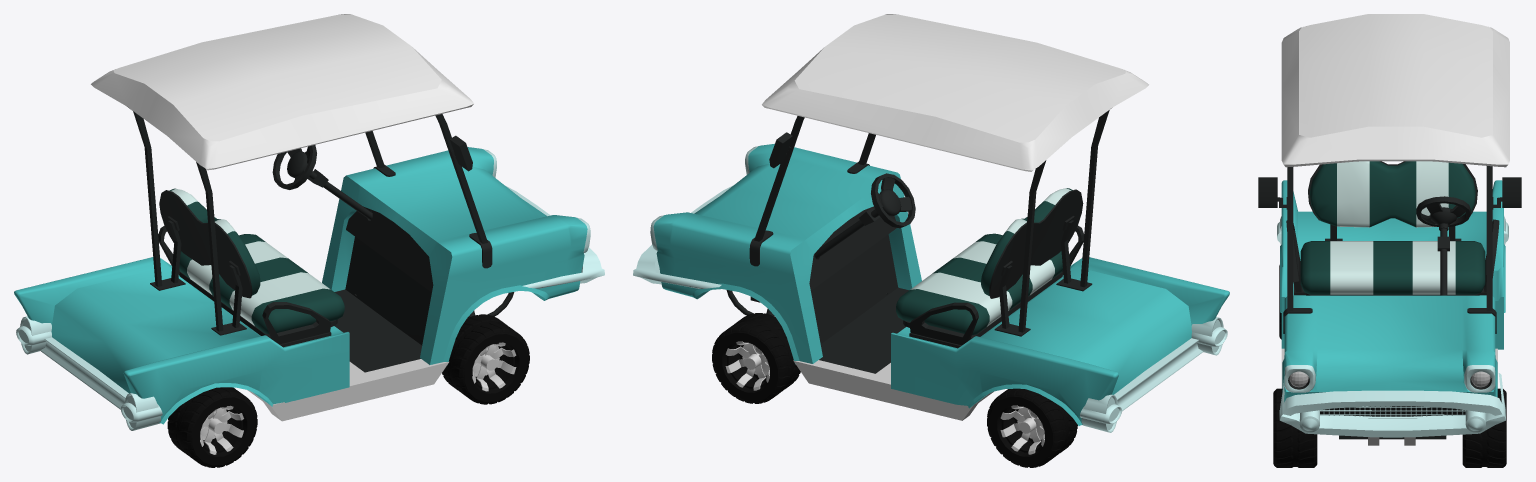
File: golfCar.gltf
The picture shows the model from 3 angles, left to right: view 1: azimuth 30°, elevation 25°; view 2: azimuth 150°, elevation 25°; view 3: azimuth 270°, elevation 25°; orthographic projection. The views are drawn at different scales.
Parts seen in each view (by area): view 1: roof, hood, bumper, seat, bottom, wheel.002, wheel.003, balk_back, balk_front, steering wheel; view 2: roof, hood, bumper, seat, bottom, wheel.001, wheel, balk_back, steering wheel, balk_front; view 3: roof, hood, seat, bumper, balk_front, wheel.002, steering wheel, wheel.001, mechanics.
Part boxes in pixels (x1=…): roof: x1=91, y1=14, x2=474, y2=170; hood: x1=322, y1=147, x2=604, y2=364; bumper: x1=14, y1=257, x2=349, y2=430; seat: x1=158, y1=188, x2=344, y2=347; bottom: x1=247, y1=289, x2=448, y2=421; wheel.002: x1=442, y1=314, x2=529, y2=404; wheel.003: x1=167, y1=387, x2=257, y2=467; balk_back: x1=128, y1=107, x2=223, y2=331; balk_front: x1=365, y1=114, x2=492, y2=268; steering wheel: x1=272, y1=145, x2=372, y2=220; roof: x1=762, y1=14, x2=1148, y2=171; hood: x1=633, y1=143, x2=921, y2=364; bumper: x1=891, y1=257, x2=1229, y2=432; seat: x1=896, y1=188, x2=1084, y2=348; bottom: x1=793, y1=287, x2=993, y2=420; wheel.001: x1=712, y1=313, x2=800, y2=403; wheel: x1=987, y1=388, x2=1077, y2=467; balk_back: x1=1018, y1=108, x2=1111, y2=332; steering wheel: x1=814, y1=173, x2=915, y2=258; balk_front: x1=749, y1=116, x2=875, y2=266; roof: x1=1281, y1=14, x2=1509, y2=167; hood: x1=1279, y1=295, x2=1505, y2=437; seat: x1=1286, y1=161, x2=1499, y2=295; bumper: x1=1277, y1=180, x2=1508, y2=349; balk_front: x1=1258, y1=166, x2=1521, y2=333; wheel.002: x1=1273, y1=388, x2=1317, y2=467; steering wheel: x1=1416, y1=196, x2=1470, y2=295; wheel.001: x1=1462, y1=388, x2=1506, y2=467; mechanics: x1=1339, y1=435, x2=1446, y2=445.
Bounding box in the file's own units: 5.28 × 3.52 × 2.57.
